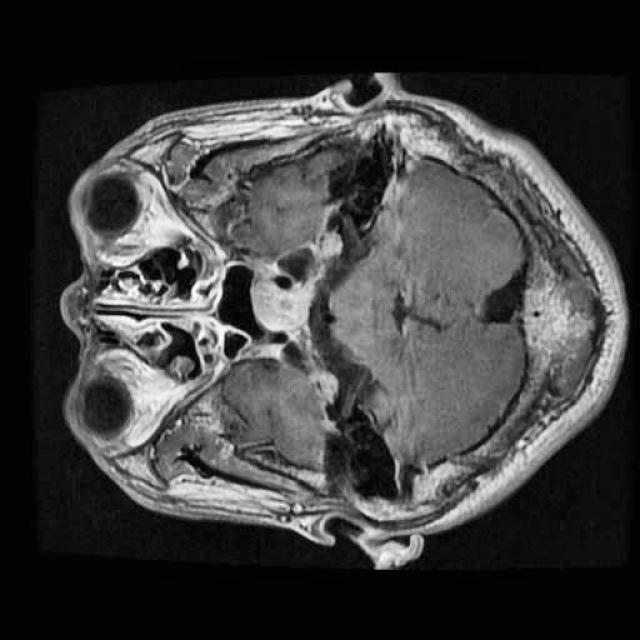Tumor: (236, 262, 320, 341)
